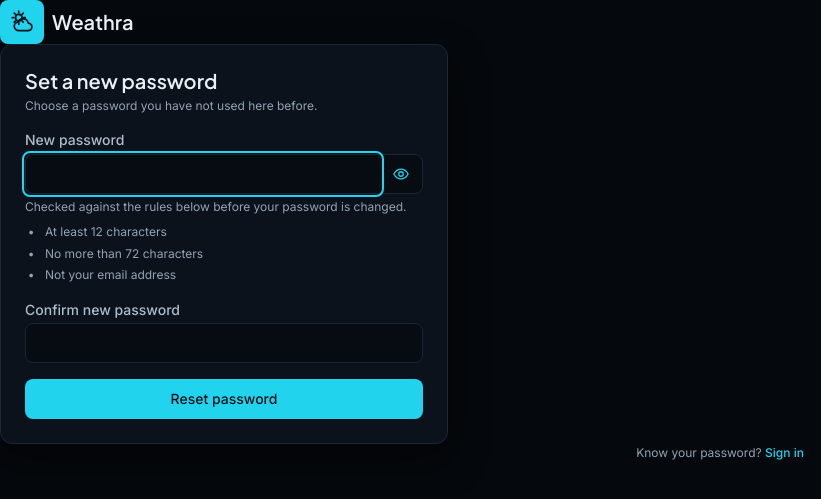
Test: with a recovery session Supabase confirms › asks Supabase who the session belongs to rather than reading the URL
Type "sam-and-more-characters" into the password field labelled "New password" at (203, 174), box left=26, top=155, right=380, bottom=193
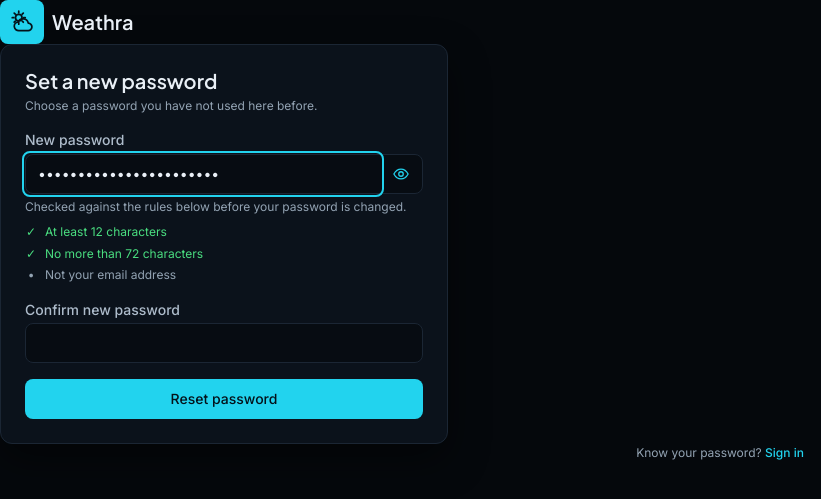
Type "sam-and-more-characters" into the password field labelled "Confirm new password" at (224, 343), box left=25, top=323, right=423, bottom=363
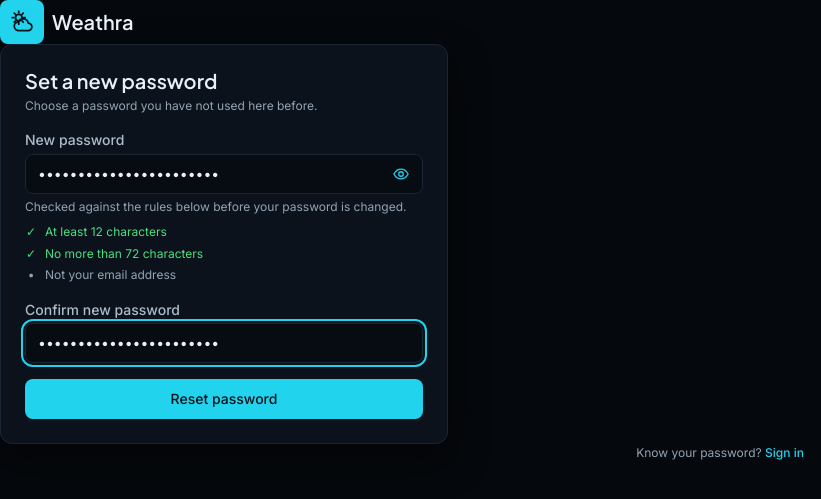
Click the button "Reset password" at (224, 399), box left=25, top=379, right=423, bottom=419
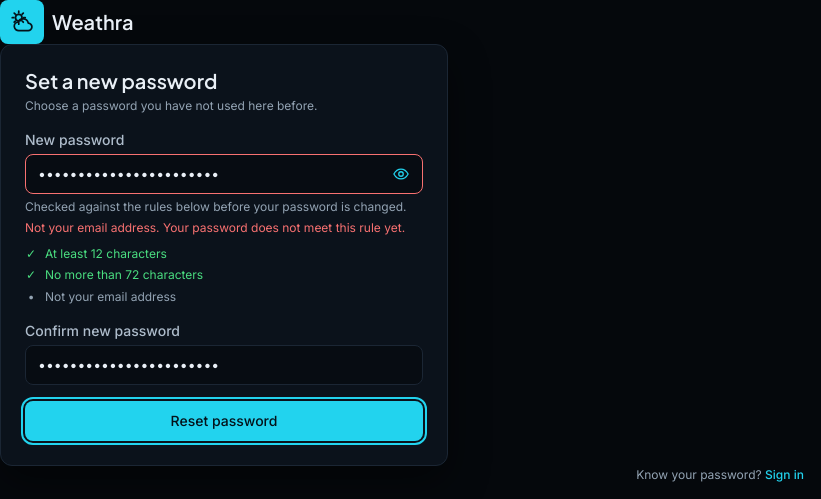
Check: the text "Not your email address. Your password does not meet this rule yet." is shown, box left=25, top=219, right=423, bottom=237
